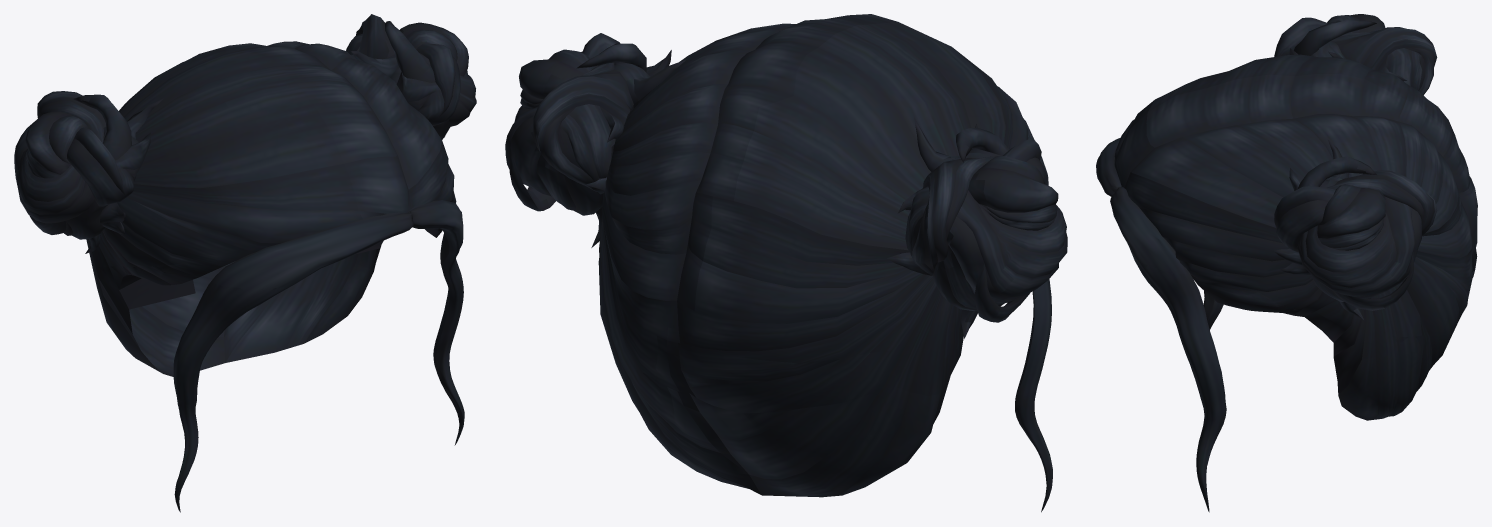
The model's file is hair11.glb.
The picture shows the model from 3 angles, left to right: view 1: azimuth 30°, elevation 25°; view 2: azimuth 150°, elevation 25°; view 3: azimuth 270°, elevation 25°; orthographic projection. The views are drawn at different scales.
Parts seen in each view (by area): view 1: s4studio_mesh_2, s4studio_mesh_1, s4studio_mesh_3; view 2: s4studio_mesh_2, s4studio_mesh_1, s4studio_mesh_3; view 3: s4studio_mesh_2, s4studio_mesh_1, s4studio_mesh_3.
Boxes of the visible parts, x1,y1,x2,y2 form: s4studio_mesh_2: [14, 14, 476, 333]; s4studio_mesh_1: [97, 228, 464, 512]; s4studio_mesh_3: [99, 201, 456, 308]; s4studio_mesh_2: [505, 14, 1067, 411]; s4studio_mesh_1: [600, 269, 1052, 512]; s4studio_mesh_3: [602, 133, 1030, 497]; s4studio_mesh_2: [1096, 14, 1477, 380]; s4studio_mesh_1: [1135, 248, 1477, 512]; s4studio_mesh_3: [1100, 142, 1432, 390].
Size of the model in its own units: 0.2599 by 0.2132 by 0.1971.
Materials: 1 (1 with a texture image).
